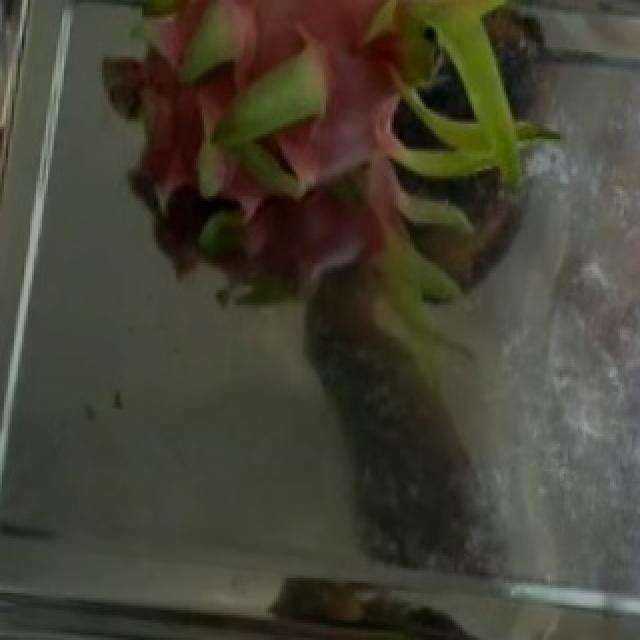fruit: (140, 0, 594, 382)
